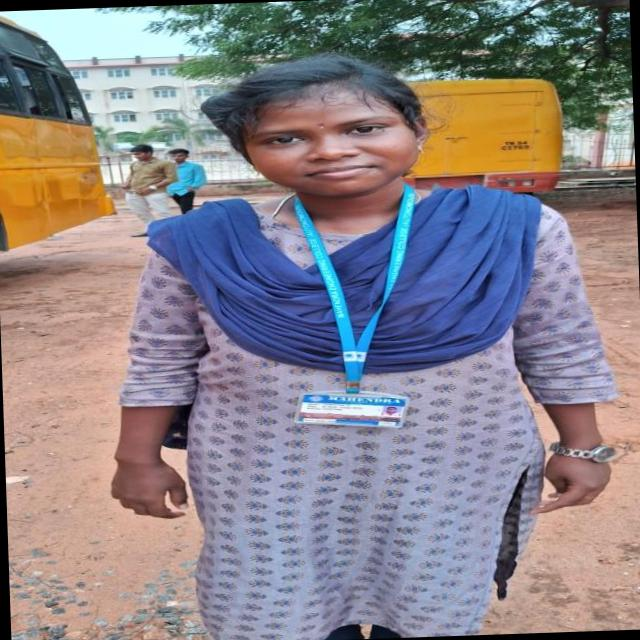id_card: (289, 181, 426, 430)
